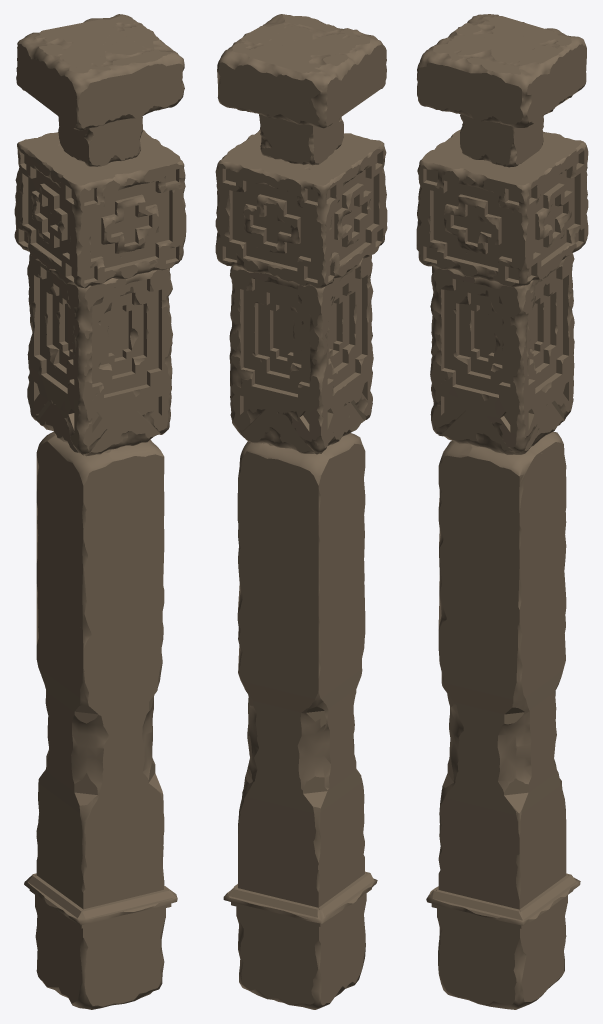
Rendered from collum_bad.fbx.
3 renders of one model, left to right at view 1: azimuth 30°, elevation 25°; view 2: azimuth 150°, elevation 25°; view 3: azimuth 330°, elevation 25°, orthographic.
Parts seen in each view (by area): view 1: collum_vault, cap2, cap1, aqui, aqui1; view 2: collum_vault, cap2, cap1, aqui, aqui1; view 3: collum_vault, cap2, cap1, aqui, aqui1.
Boxes of the visible parts, x1,y1,x2,y2 form: collum_vault: [24, 431, 177, 1009]; cap2: [27, 253, 172, 456]; cap1: [14, 129, 186, 288]; aqui: [16, 14, 184, 130]; aqui1: [58, 116, 142, 166]; collum_vault: [223, 433, 377, 1009]; cap2: [229, 255, 373, 454]; cap1: [215, 130, 387, 288]; aqui: [217, 14, 386, 128]; aqui1: [259, 114, 343, 165]; collum_vault: [426, 431, 580, 1009]; cap2: [430, 242, 574, 454]; cap1: [416, 129, 588, 287]; aqui: [417, 14, 586, 127]; aqui1: [460, 114, 543, 167].
Size of the model in its own units: 279 by 2298 by 279.
